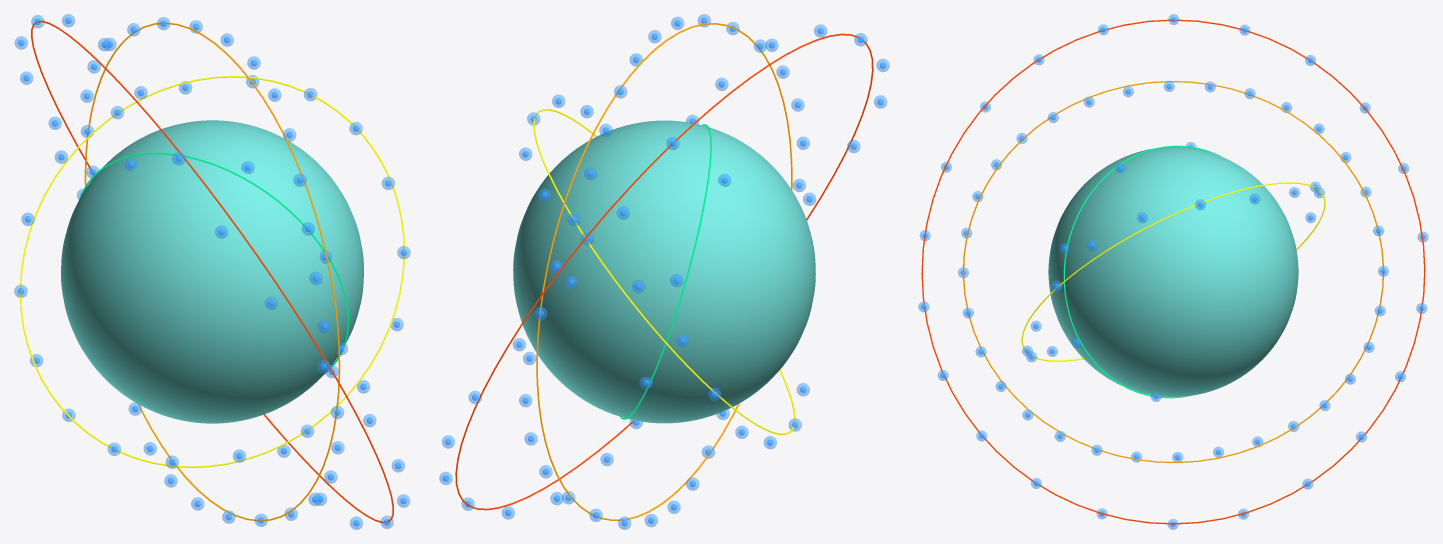
3 views of the same model, side by side, from view 1: azimuth 30°, elevation 25°; view 2: azimuth 150°, elevation 25°; view 3: azimuth 270°, elevation 25° (orthographic). The views are drawn at different scales.
Parts seen in each view (by area): view 1: Pb, object 24, object 61, object 126, object 7; view 2: Pb, object 126, object 61, object 24, object 7; view 3: Pb, object 126, object 61, object 24, object 7.
Part boxes in pixels (x1=…): Pb: x1=61, y1=120, x2=363, y2=423; object 24: x1=20, y1=76, x2=404, y2=467; object 61: x1=84, y1=22, x2=340, y2=521; object 126: x1=31, y1=20, x2=393, y2=523; object 7: x1=79, y1=152, x2=349, y2=374; Pb: x1=513, y1=120, x2=815, y2=423; object 126: x1=455, y1=33, x2=873, y2=510; object 61: x1=536, y1=23, x2=792, y2=520; object 24: x1=533, y1=109, x2=795, y2=434; object 7: x1=620, y1=124, x2=711, y2=419; Pb: x1=1048, y1=147, x2=1298, y2=396; object 126: x1=921, y1=19, x2=1425, y2=524; object 61: x1=962, y1=80, x2=1383, y2=463; object 24: x1=1021, y1=182, x2=1325, y2=361; object 7: x1=1063, y1=145, x2=1220, y2=398.
Size of the model in its own units: 3.72 by 6.75 by 7.29.
